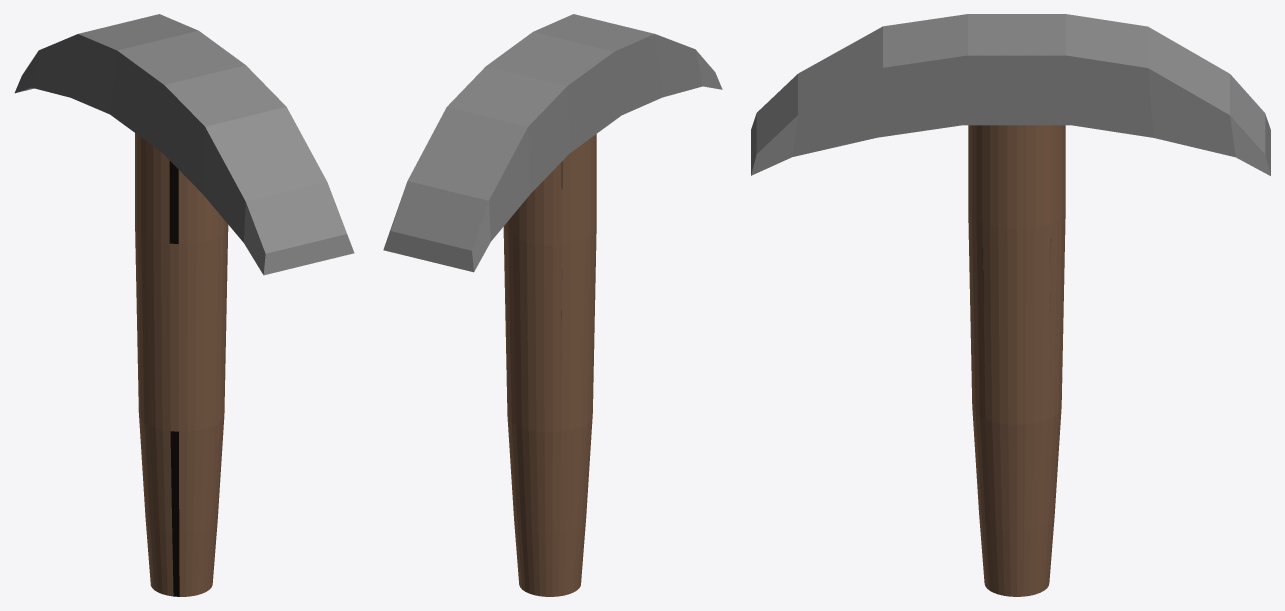
The model's file is pickaxe.glb.
3 views of the same model, side by side, from view 1: azimuth 30°, elevation 25°; view 2: azimuth 150°, elevation 25°; view 3: azimuth 270°, elevation 25° (orthographic). The views are drawn at different scales.
Parts seen in each view (by area): view 1: Cube; view 2: Cube; view 3: Cube.
Boxes of the visible parts, x1,y1,x2,y2 form: Cube: [14, 14, 354, 596]; Cube: [383, 14, 722, 596]; Cube: [751, 14, 1270, 596].
Bounding box in the file's own units: 0.8518 × 4.71 × 4.04.
Materials: 1 (1 with a texture image).
